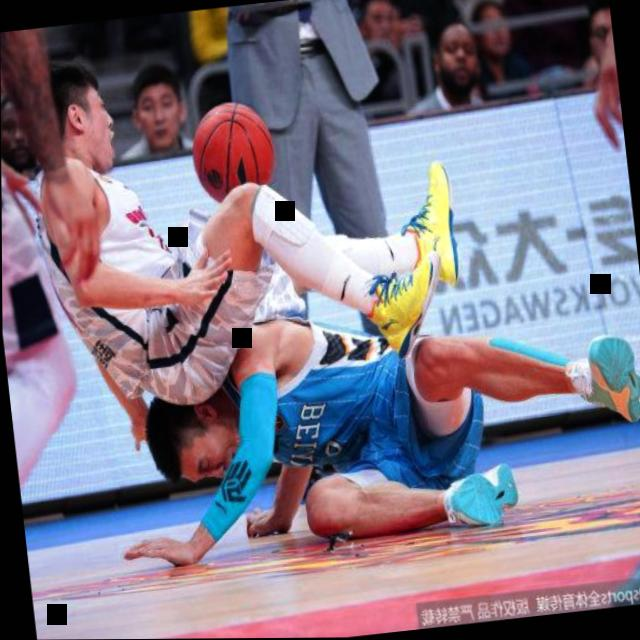Fall-Detected: (98, 264, 616, 568)
